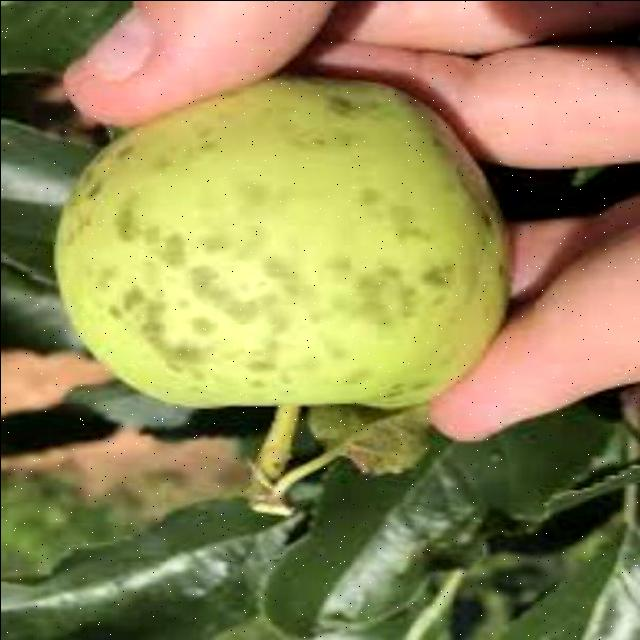BLOTCH: (28, 51, 515, 457)
